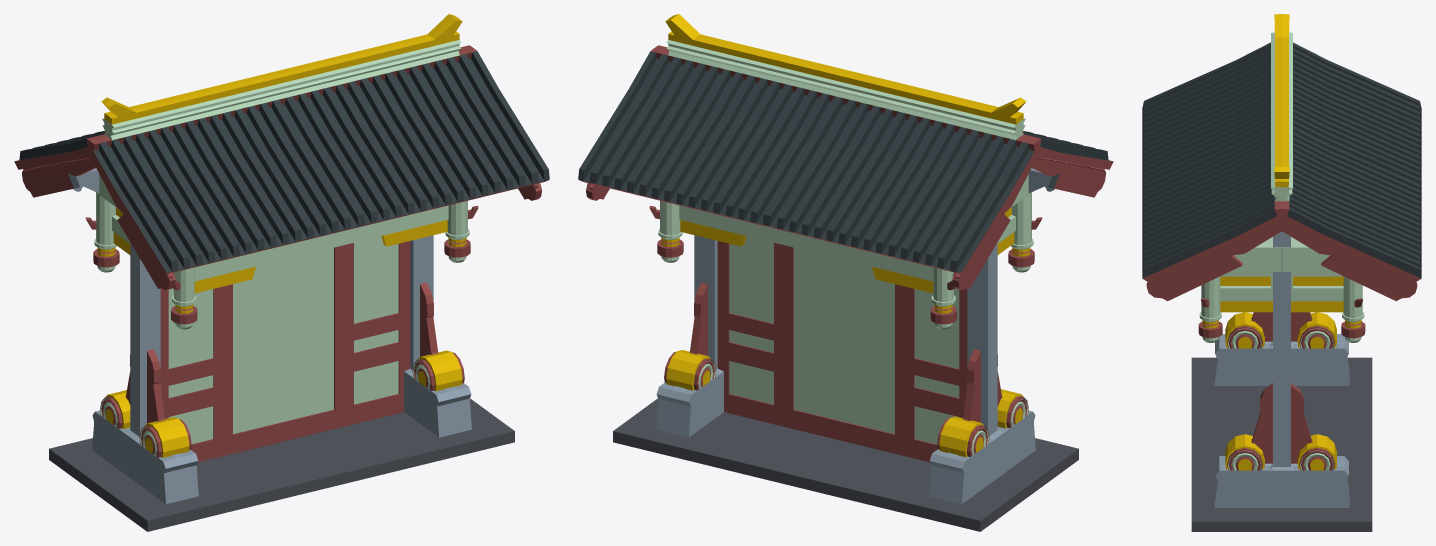
The model's file is FrontDoor.fbx.
The picture shows the model from 3 angles, left to right: view 1: azimuth 30°, elevation 25°; view 2: azimuth 150°, elevation 25°; view 3: azimuth 270°, elevation 25°; orthographic projection. The views are drawn at different scales.
Visible parts, largest first — view 1: toit, battans, marche, piliers, poutre; view 2: toit, battans, marche, piliers, poutre; view 3: toit, piliers, marche, poutre.
Boxes of the visible parts, x1=… form: toit: x1=14, y1=14, x2=549, y2=290; battans: x1=160, y1=236, x2=410, y2=462; marche: x1=49, y1=398, x2=514, y2=531; piliers: x1=92, y1=235, x2=471, y2=504; poutre: x1=73, y1=168, x2=478, y2=329; toit: x1=578, y1=14, x2=1113, y2=290; battans: x1=717, y1=236, x2=967, y2=462; marche: x1=613, y1=398, x2=1078, y2=531; piliers: x1=656, y1=235, x2=1035, y2=504; poutre: x1=649, y1=168, x2=1054, y2=329; toit: x1=1142, y1=14, x2=1421, y2=301; piliers: x1=1214, y1=231, x2=1349, y2=507; marche: x1=1191, y1=357, x2=1372, y2=531; poutre: x1=1198, y1=237, x2=1365, y2=342.
Bounding box in the file's own units: 449 × 440 × 310.
